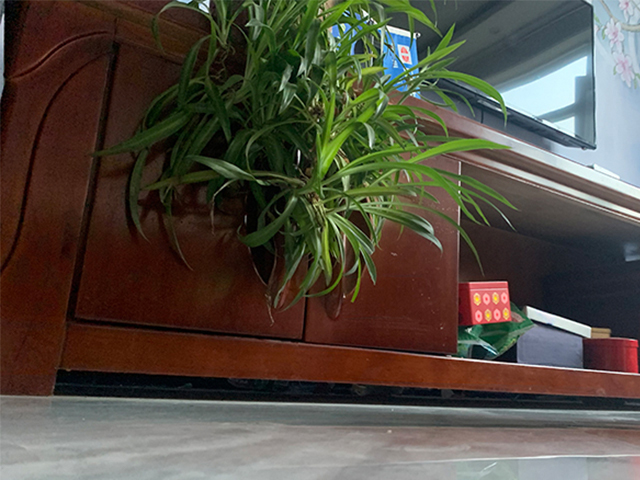cabinet: (1, 1, 640, 401)
